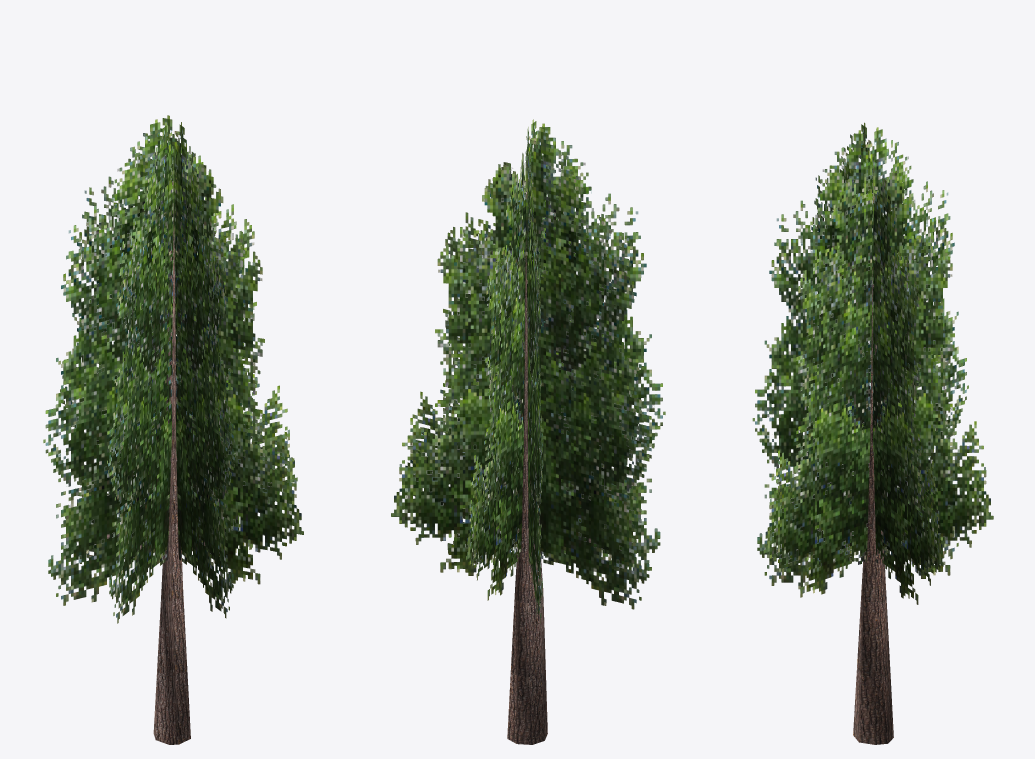
Rendered from protected_tree.glb.
3 views of the same model, side by side, from view 1: azimuth 30°, elevation 25°; view 2: azimuth 150°, elevation 25°; view 3: azimuth 270°, elevation 25° (orthographic).
Parts seen in each view (by area): view 1: Leaves02, Leaves03, Leaves04, Leaves01, Trunk; view 2: Leaves02, Leaves03, Leaves01, Trunk, Leaves04; view 3: Leaves04, Leaves01, Leaves03, Trunk.
Boxes of the visible parts, x1=… form: Leaves02: x1=43, y1=119, x2=297, y2=605; Leaves03: x1=107, y1=122, x2=235, y2=623; Leaves04: x1=60, y1=115, x2=303, y2=584; Leaves01: x1=167, y1=122, x2=235, y2=618; Trunk: x1=153, y1=182, x2=190, y2=744; Leaves02: x1=405, y1=128, x2=654, y2=609; Leaves03: x1=391, y1=123, x2=665, y2=580; Leaves01: x1=466, y1=119, x2=575, y2=600; Trunk: x1=507, y1=153, x2=547, y2=744; Leaves04: x1=514, y1=127, x2=543, y2=623; Leaves04: x1=763, y1=127, x2=968, y2=597; Leaves01: x1=752, y1=130, x2=993, y2=589; Leaves03: x1=803, y1=122, x2=943, y2=604; Trunk: x1=853, y1=160, x2=893, y2=744.
Size of the model in its own units: 8.9 by 17.96 by 7.43.
2 materials, 2 textured.
